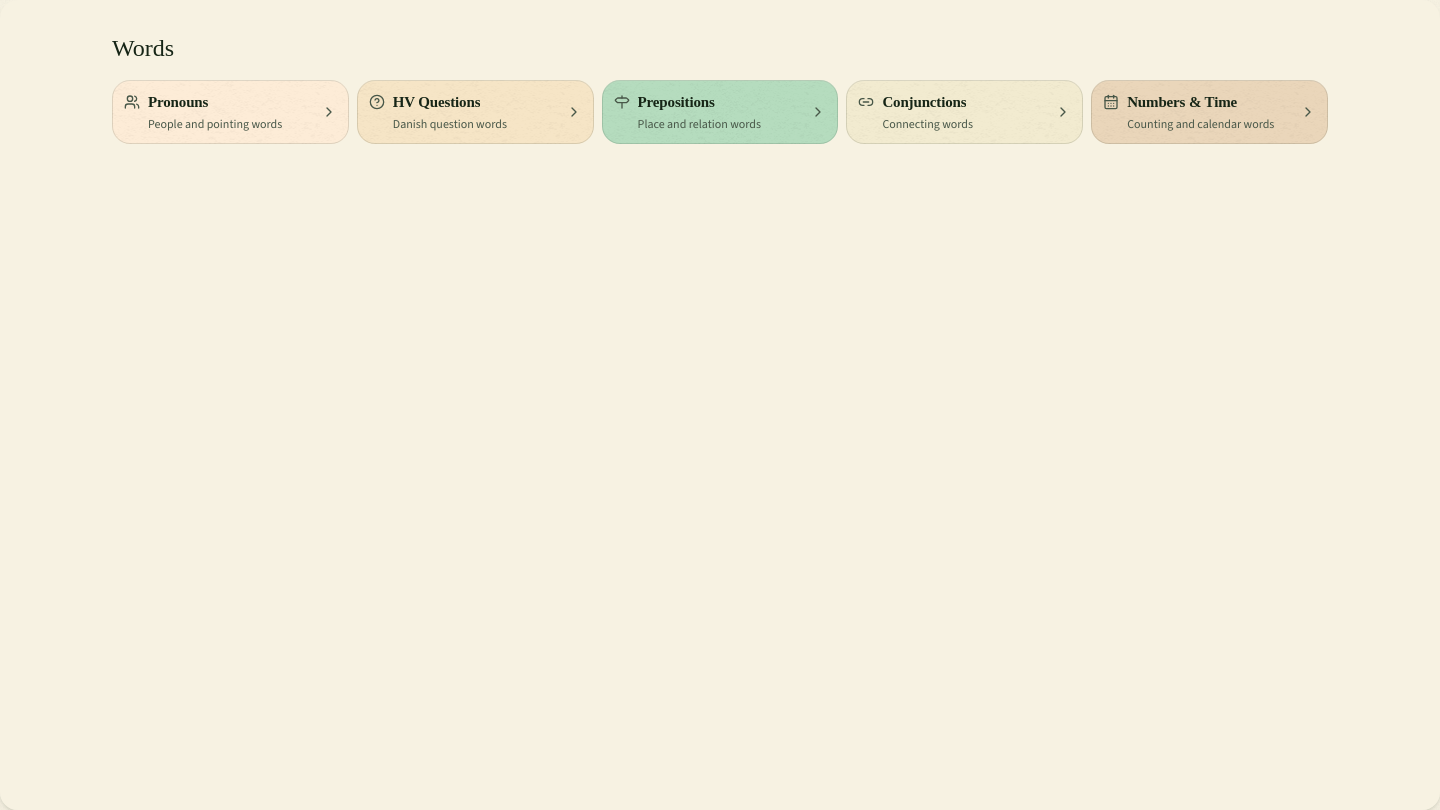
it: App wordbank pinned pages › renders the HV Questions page with simplified word cards
Click the button with aria-label "open hv questions reference".
click(475, 112)  # box [357, 80, 594, 144]
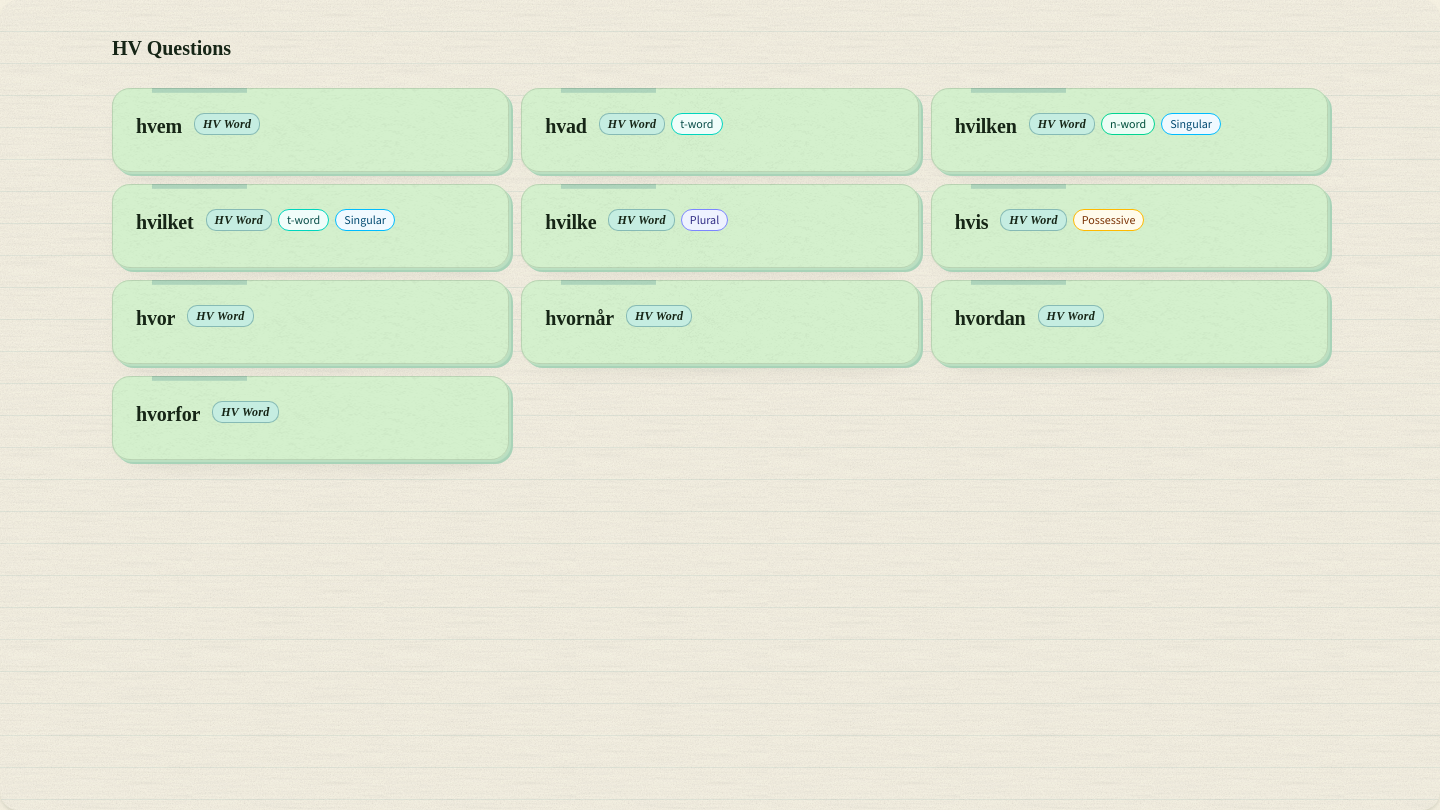
Check: the text "where" is not shown
Check: the heading "HV Questions" is shown, box [112, 37, 231, 59]
Check: the 7th text "HV Word" is shown, box [187, 305, 254, 327]
Focus the button with aria-label "open hvor in wordbank" at (156, 318), box [112, 280, 509, 364]
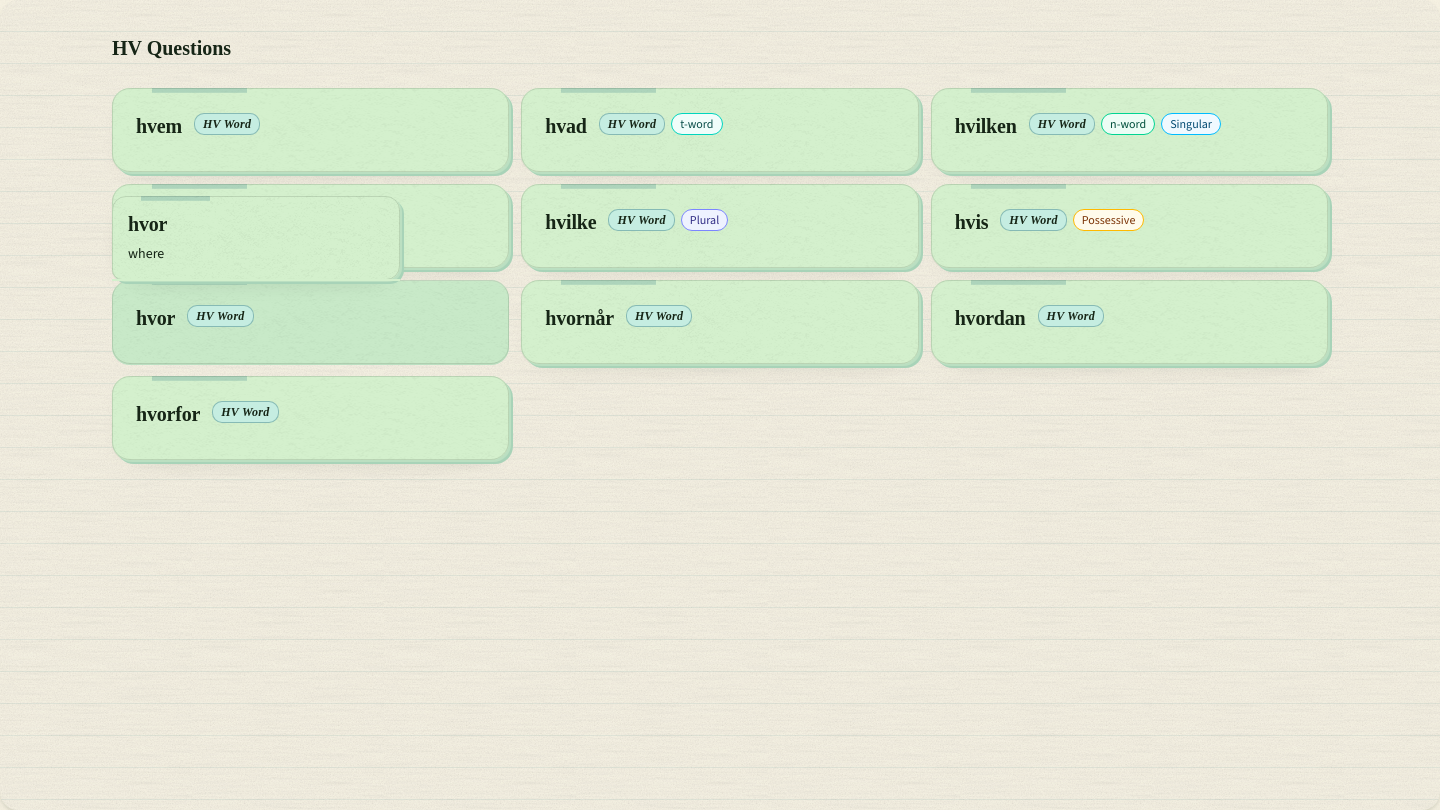
Check: the element showing "hvor where" is shown, box [128, 213, 167, 263]
Check: the 1st text "hvor" is shown, box [128, 213, 167, 235]
Check: the text "where" is shown, box [128, 244, 164, 263]
